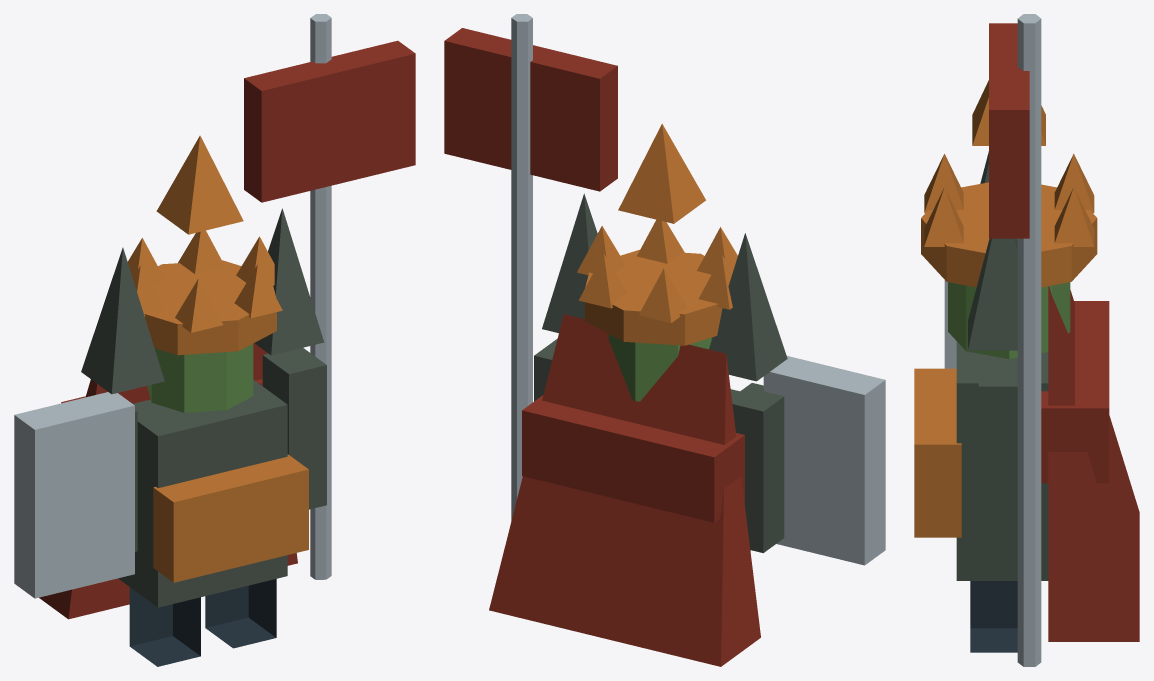
The model's file is hero.obj.
The picture shows the model from 3 angles, left to right: view 1: azimuth 30°, elevation 25°; view 2: azimuth 150°, elevation 25°; view 3: azimuth 270°, elevation 25°; orthographic projection. The views are drawn at different scales.
Parts seen in each view (by area): view 1: hero; view 2: hero; view 3: hero.
Part boxes in pixels (bbox=[...]): hero: bbox=[14, 14, 415, 666]; hero: bbox=[444, 14, 885, 666]; hero: bbox=[914, 14, 1139, 666].
Size of the model in its own units: 1.81 by 2.52 by 0.7648.
